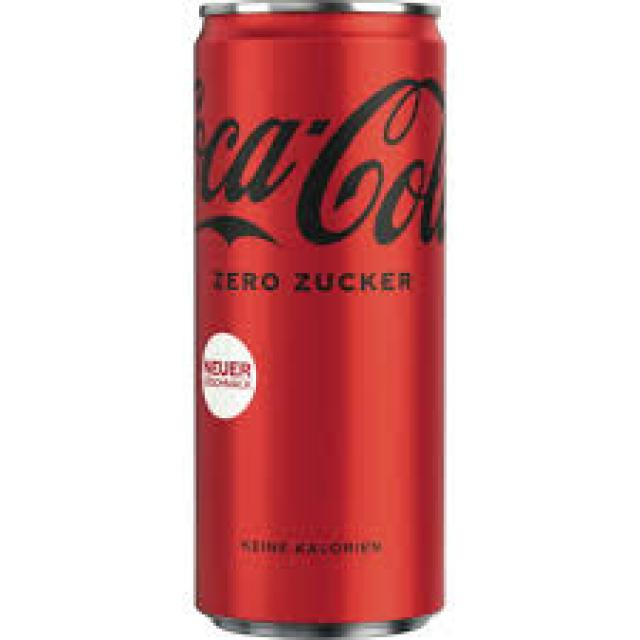aluminum_can: (196, 0, 447, 633)
